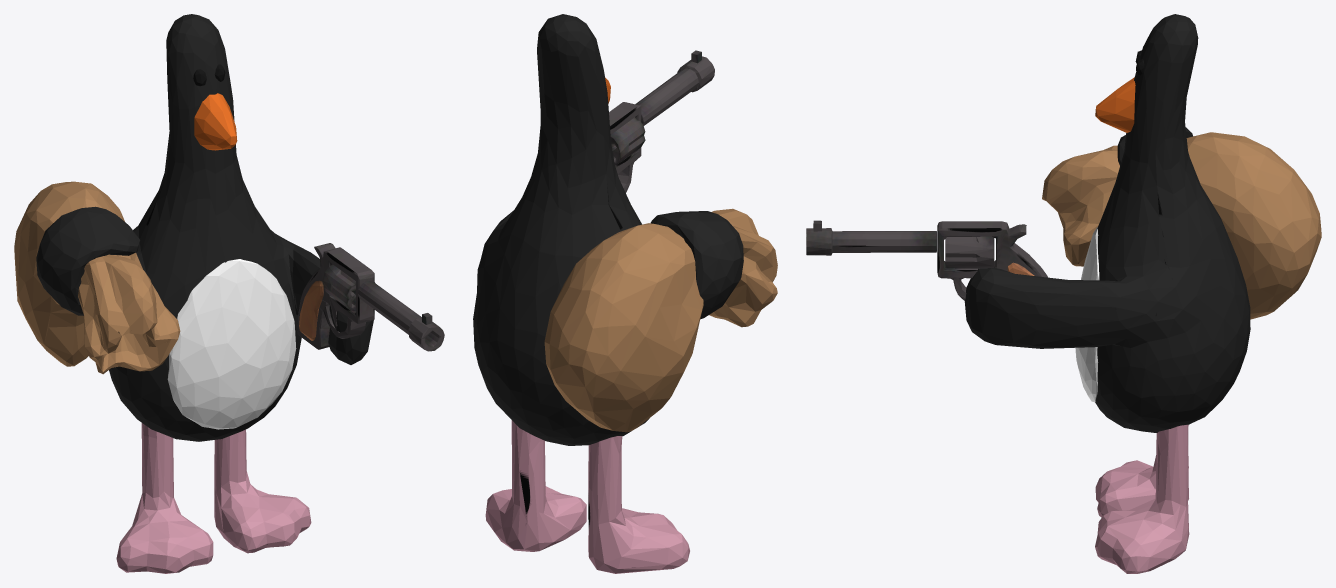
The model's file is robber_low_poly.obj.
3 views of the same model, side by side, from view 1: azimuth 30°, elevation 25°; view 2: azimuth 150°, elevation 25°; view 3: azimuth 270°, elevation 25° (orthographic). The views are drawn at different scales.
Visible parts, largest first — view 1: Robber; view 2: Robber; view 3: Robber.
Part boxes in pixels (x1=…): Robber: x1=14, y1=14, x2=444, y2=573; Robber: x1=473, y1=14, x2=777, y2=573; Robber: x1=806, y1=14, x2=1321, y2=573.
Bounding box in the file's own units: 3.06 × 6.05 × 5.48.
